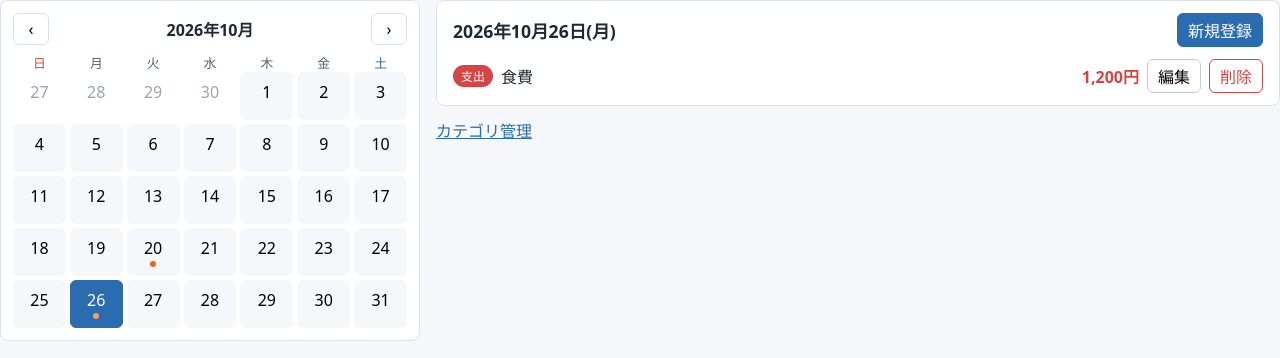
Test case: CalendarView › shows the transactions of another date when it is selected
The image size is (1280, 358).
Click the button "20".
click(153, 252)  # box top-left (127, 228), bottom-right (180, 276)
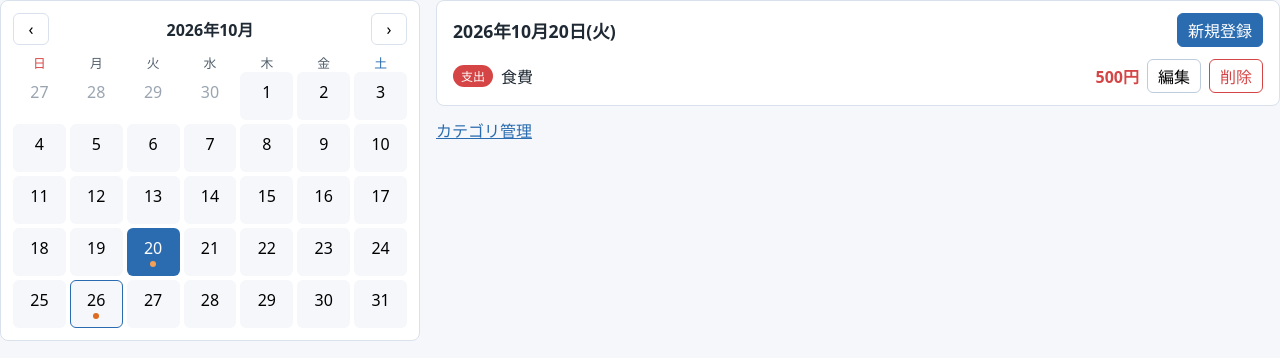
Check: the list item "支出 食費 500円 編集 削除" is shown, box top-left (453, 59), bottom-right (1263, 93)
Click the button "21".
click(210, 252)  # box top-left (184, 228), bottom-right (236, 276)
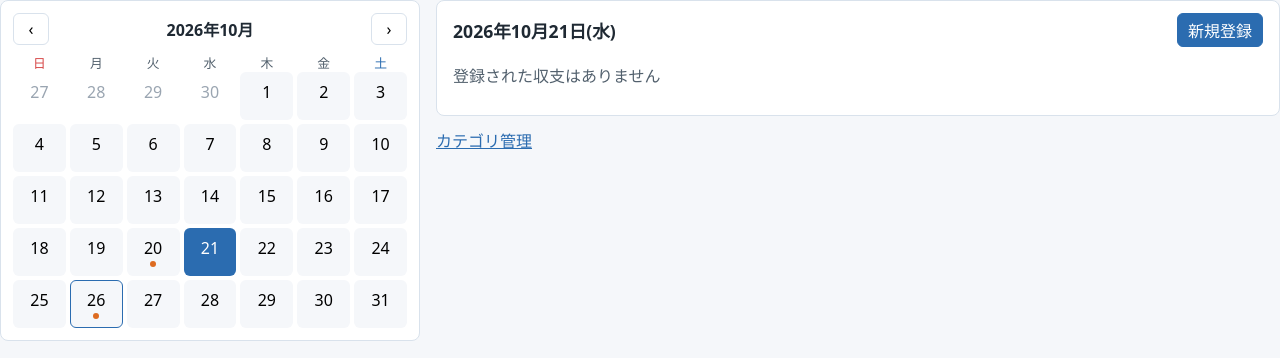
Check: the text "登録された収支はありません" is shown, box top-left (453, 65), bottom-right (660, 87)
